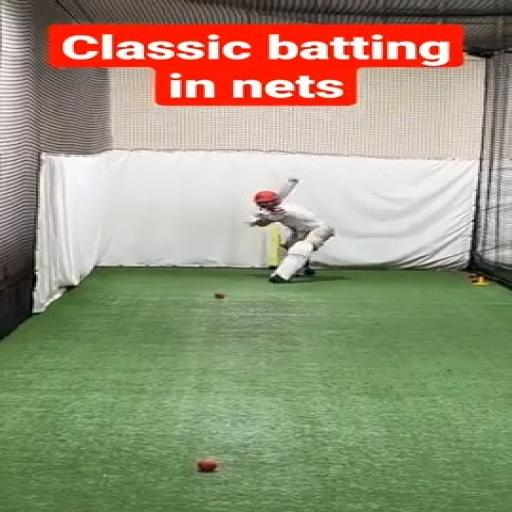Cricket bat: (277, 178, 298, 199)
